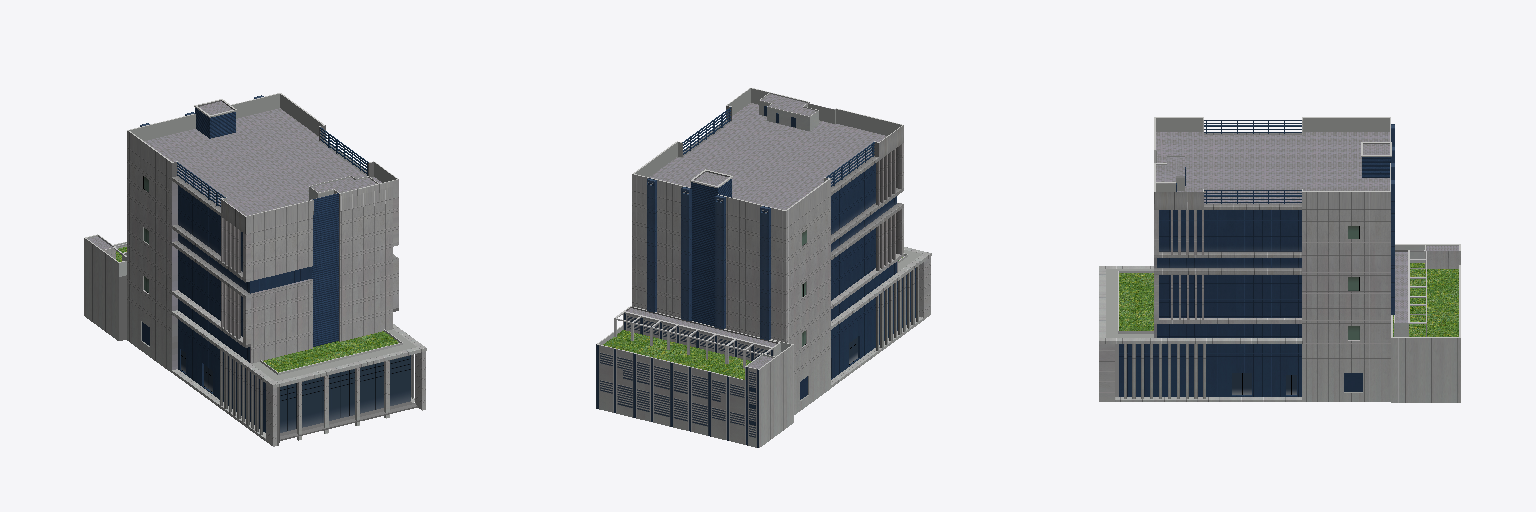
3 renders of one model, left to right at view 1: azimuth 30°, elevation 25°; view 2: azimuth 150°, elevation 25°; view 3: azimuth 270°, elevation 25°, orthographic.
Visible parts, largest first — view 1: group6 polySurface70, group6 polySurface27, group6 polySurface54, group6 polySurface31, group6 polySurface66, group6 polySurface55, group6 polySurface53, group6 polySurface58, group6 polySurface108, group6 polySurface47, group6 polySurface36, group6 pCube52 (+13 smaller); view 2: group6 polySurface70, group6 polySurface40, group6 polySurface45, group6 polySurface27, group6 polySurface31, group6 polySurface38, group6 polySurface50, group6 polySurface47, group6 polySurface108, group6 polySurface49, group6 pCube117, group6 pCube90 (+11 smaller); view 3: group6 polySurface88, group6 polySurface74, group6 polySurface70, group6 polySurface75, group6 polySurface89, group6 polySurface50, group6 polySurface108, group6 polySurface36, group6 polySurface84, group6 pCube52, group6 pCube155, group6 pCube172 (+10 smaller).
Part boxes in pixels (x1,y1,x2,y2): group6 polySurface70: (144, 108, 381, 369); group6 polySurface27: (127, 131, 171, 372); group6 polySurface54: (340, 181, 392, 341); group6 polySurface31: (178, 185, 224, 401); group6 polySurface66: (280, 355, 410, 432); group6 polySurface55: (251, 280, 312, 363); group6 polySurface53: (251, 200, 313, 280); group6 polySurface58: (312, 193, 338, 346); group6 polySurface108: (127, 93, 397, 216); group6 polySurface47: (84, 238, 118, 340); group6 polySurface36: (263, 331, 398, 372); group6 pCube52: (194, 99, 236, 138); group6 polySurface70: (649, 103, 897, 272); group6 polySurface40: (632, 174, 785, 342); group6 polySurface45: (596, 344, 758, 447); group6 polySurface27: (786, 179, 830, 414); group6 polySurface31: (831, 166, 871, 379); group6 polySurface38: (691, 182, 717, 326); group6 polySurface50: (597, 325, 793, 379); group6 polySurface47: (759, 345, 793, 447); group6 polySurface108: (633, 88, 902, 210); group6 polySurface49: (623, 313, 773, 360); group6 pCube117: (681, 187, 691, 320); group6 pCube90: (760, 206, 770, 340); group6 polySurface88: (1302, 192, 1390, 401); group6 polySurface74: (1207, 210, 1301, 396); group6 polySurface70: (1154, 132, 1389, 337); group6 polySurface75: (1119, 210, 1206, 396); group6 polySurface89: (1391, 338, 1460, 402); group6 polySurface50: (1391, 244, 1460, 337); group6 polySurface108: (1154, 117, 1390, 191); group6 polySurface36: (1119, 273, 1153, 330); group6 polySurface84: (1099, 338, 1302, 343); group6 pCube52: (1361, 142, 1391, 177); group6 pCube155: (1154, 268, 1301, 274); group6 pCube172: (1099, 344, 1114, 401).
Bounding box in the file's own units: 102 × 133 × 196.
8 materials, 7 textured.